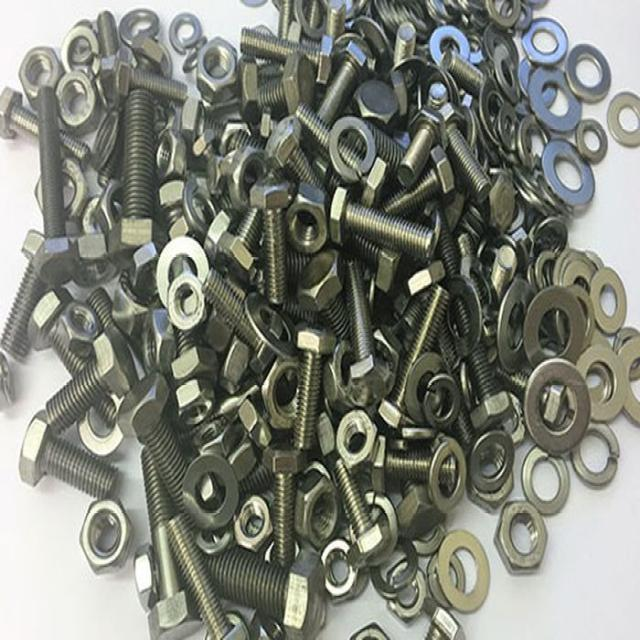Logam: (157, 503, 244, 640), (27, 81, 80, 282), (20, 413, 122, 511), (330, 185, 449, 269), (340, 249, 394, 414), (456, 119, 524, 242), (114, 88, 162, 258), (332, 452, 386, 587), (537, 136, 613, 224), (520, 281, 586, 382), (120, 354, 184, 457), (396, 338, 456, 444), (250, 175, 294, 302), (290, 314, 335, 438), (496, 490, 553, 587), (472, 419, 525, 522), (264, 438, 306, 564), (442, 528, 498, 620), (526, 400, 578, 497), (253, 40, 314, 119), (166, 341, 224, 424), (70, 494, 130, 572), (29, 307, 82, 394), (441, 39, 499, 117), (454, 272, 503, 364), (272, 564, 335, 634), (381, 449, 462, 501), (562, 37, 617, 108), (55, 18, 107, 93), (91, 314, 132, 406), (223, 133, 269, 215), (462, 373, 518, 434), (406, 97, 448, 177), (348, 69, 400, 133), (193, 36, 242, 102), (170, 260, 213, 332), (590, 255, 626, 339), (87, 14, 127, 89), (132, 19, 176, 84), (518, 20, 564, 82), (177, 175, 220, 241), (133, 534, 167, 615), (384, 15, 434, 67), (268, 114, 303, 170), (178, 96, 208, 150)
